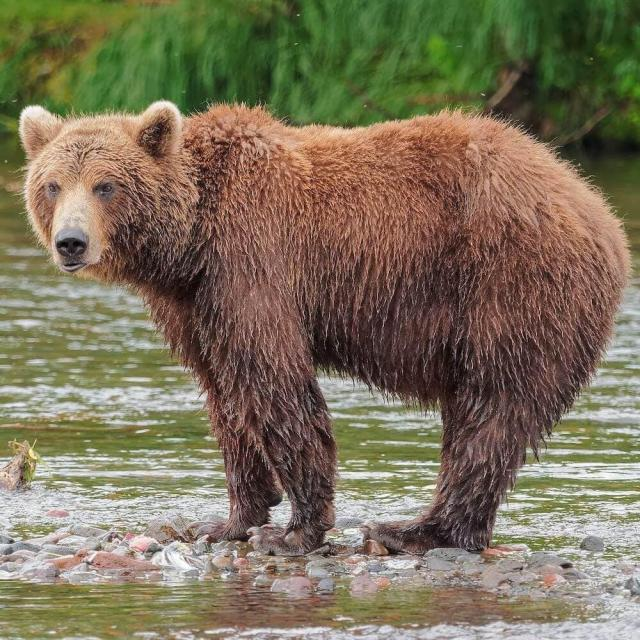Bear: (17, 101, 632, 558)
